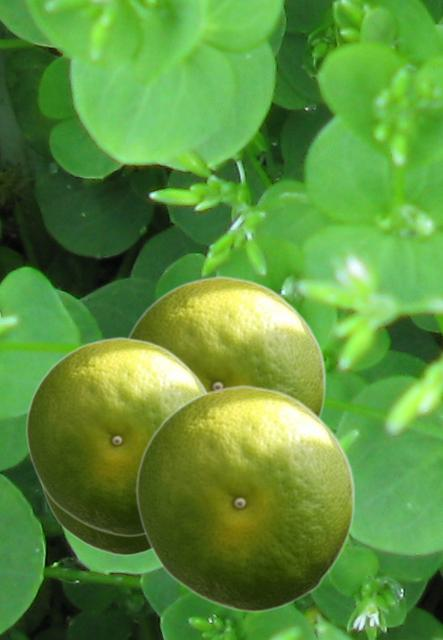dalandan: (135, 384, 354, 612), (25, 336, 207, 536), (127, 275, 325, 417), (41, 487, 150, 555)
